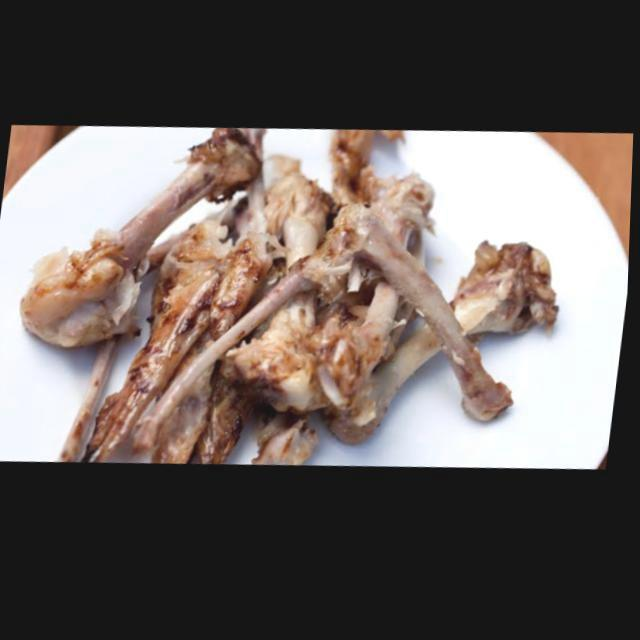left_over_food: (135, 208, 516, 451), (21, 130, 261, 349), (82, 223, 264, 463), (225, 288, 414, 418), (327, 324, 446, 450), (452, 248, 562, 346), (59, 339, 121, 463), (159, 381, 247, 467), (268, 172, 336, 272), (379, 178, 438, 266), (329, 133, 384, 216), (244, 182, 284, 279), (256, 415, 325, 469)
